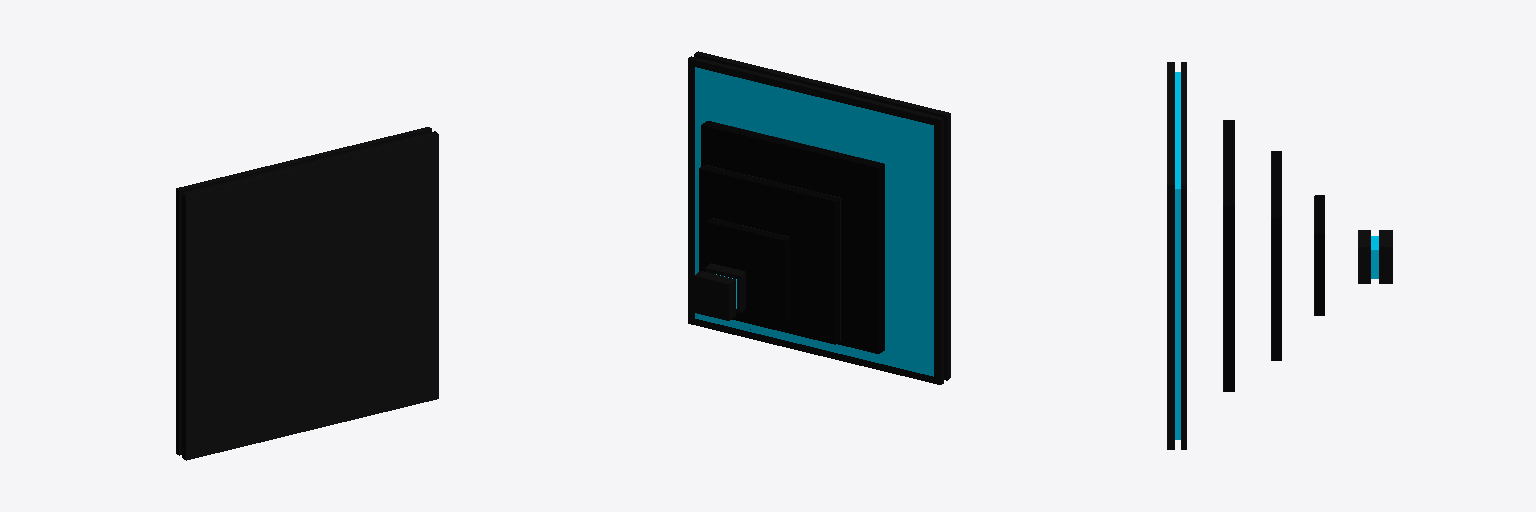
The model's file is table_blue.obj.
The picture shows the model from 3 angles: view 1: azimuth 30°, elevation 25°; view 2: azimuth 150°, elevation 25°; view 3: azimuth 270°, elevation 25°; orthographic projection.
Parts seen in each view (by area): view 1: Object.5, Object.11, Object.12; view 2: Object.4, Object.13, Object.7, Object.11, Object.9, Object.12, Object.2, Object.1; view 3: Object.13, Object.12, Object.11, Object.4, Object.7, Object.9, Object.2, Object.1.
Part boxes in pixels (x1,y1,x2,y2): Object.5: (185, 134, 438, 460); Object.11: (176, 127, 431, 455); Object.12: (182, 131, 437, 459); Object.4: (695, 67, 933, 376); Object.13: (701, 121, 884, 353); Object.7: (699, 165, 839, 344); Object.11: (688, 56, 943, 384); Object.9: (706, 218, 789, 322); Object.12: (694, 52, 949, 380); Object.2: (694, 271, 735, 320); Object.1: (705, 264, 745, 312); Object.13: (1224, 120, 1234, 391); Object.12: (1168, 62, 1174, 449); Object.11: (1181, 62, 1186, 449); Object.4: (1175, 72, 1180, 439); Object.7: (1272, 151, 1281, 360); Object.9: (1315, 195, 1324, 315); Object.2: (1379, 230, 1392, 283); Object.1: (1359, 230, 1370, 283).
Size of the model in its own units: 31.87 by 31.89 by 24.59.